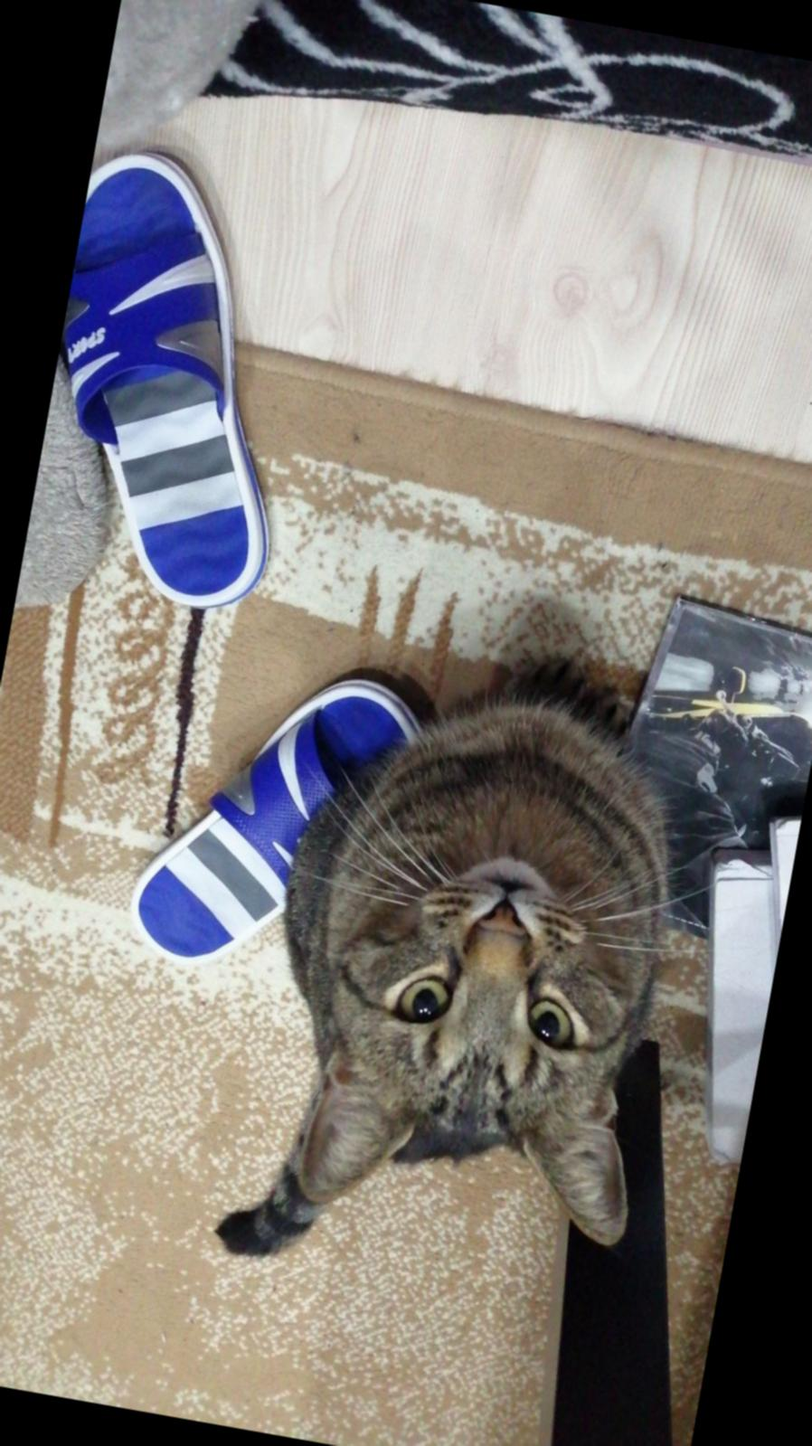macka: (216, 666, 714, 1315)
